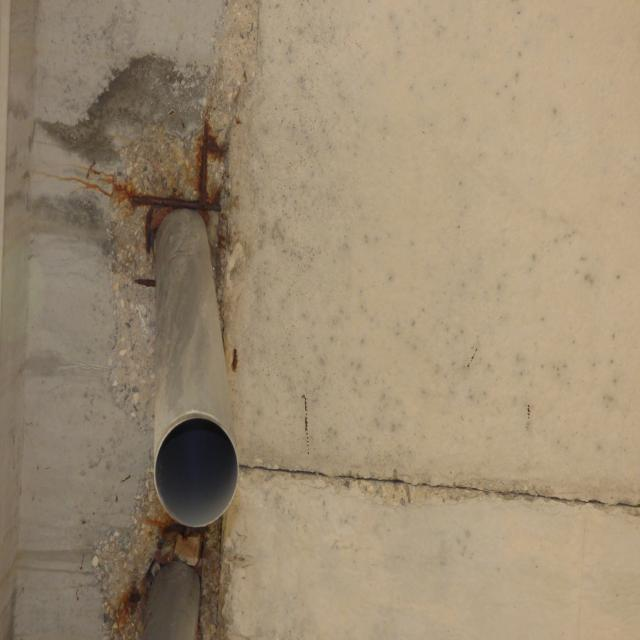corrosion: (19, 98, 278, 373), (92, 483, 280, 637)
